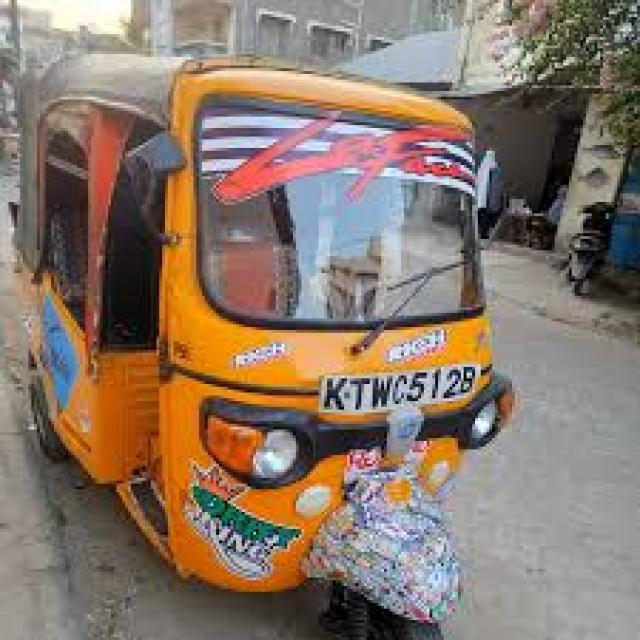tuktuk: (0, 2, 597, 637)
